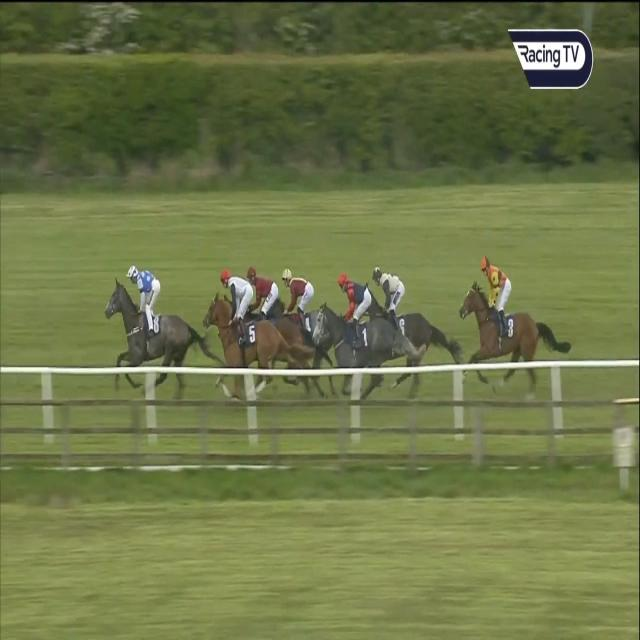horses-racing: (458, 254, 574, 398), (102, 263, 204, 408), (310, 272, 396, 402), (206, 268, 282, 408), (362, 262, 453, 352), (281, 255, 331, 332), (243, 262, 286, 322)
